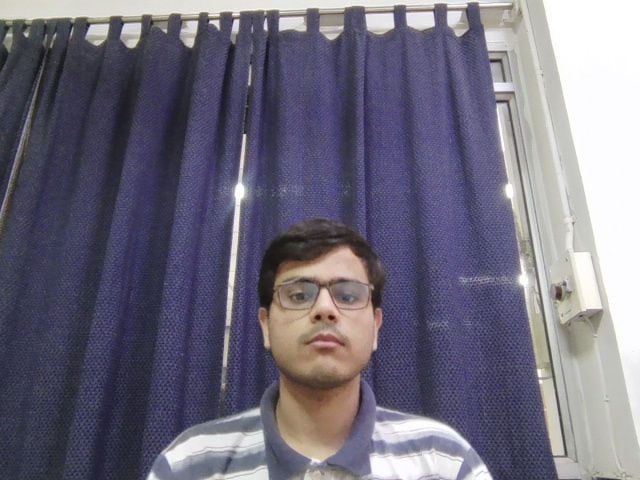face: (256, 220, 382, 383)
